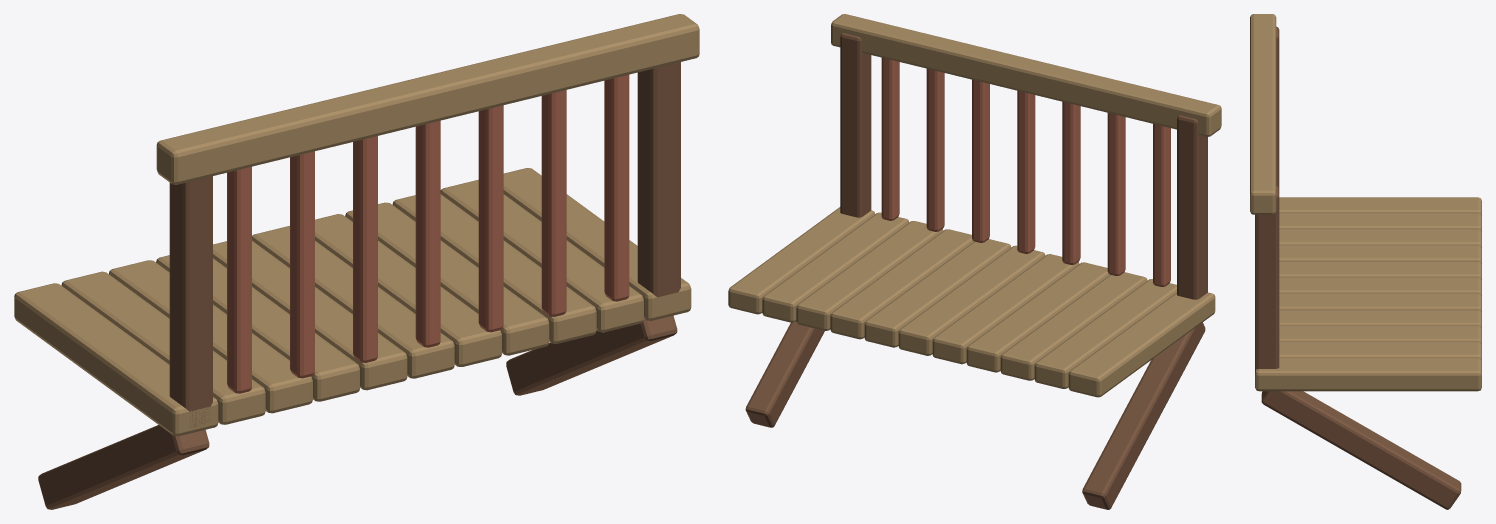
The model's file is attachment_balcony_2m__attachments.glb.
The picture shows the model from 3 angles, left to right: view 1: azimuth 30°, elevation 25°; view 2: azimuth 150°, elevation 25°; view 3: azimuth 270°, elevation 25°; orthographic projection. The views are drawn at different scales.
Parts seen in each view (by area): view 1: attachment_balcony_2m__attachments__mesh_00; view 2: attachment_balcony_2m__attachments__mesh_00; view 3: attachment_balcony_2m__attachments__mesh_00.
Boxes of the visible parts, bbox=[...] form: attachment_balcony_2m__attachments__mesh_00: bbox=[14, 14, 699, 509]; attachment_balcony_2m__attachments__mesh_00: bbox=[728, 14, 1221, 509]; attachment_balcony_2m__attachments__mesh_00: bbox=[1250, 14, 1481, 509].
Bounding box in the file's own units: 2.1 × 1.76 × 1.14.
